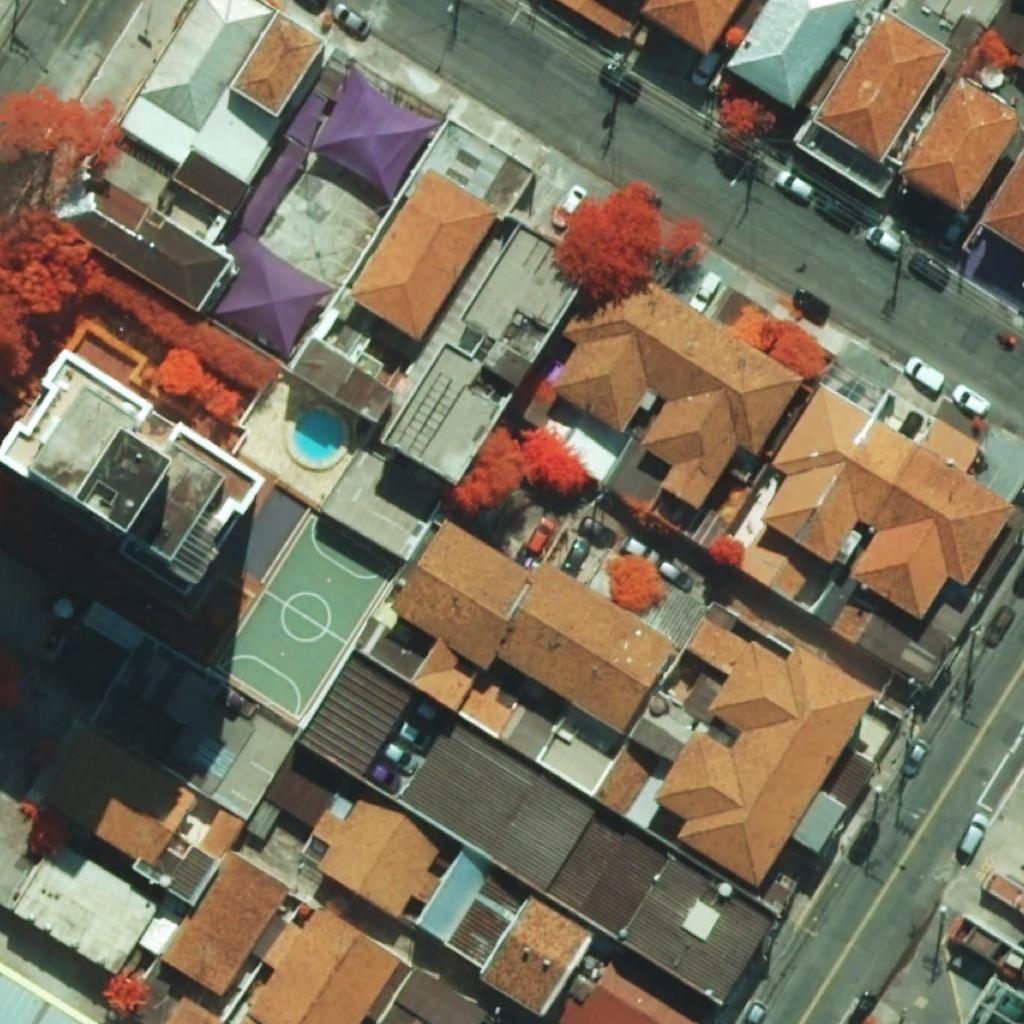pool: (293, 408, 343, 462)
